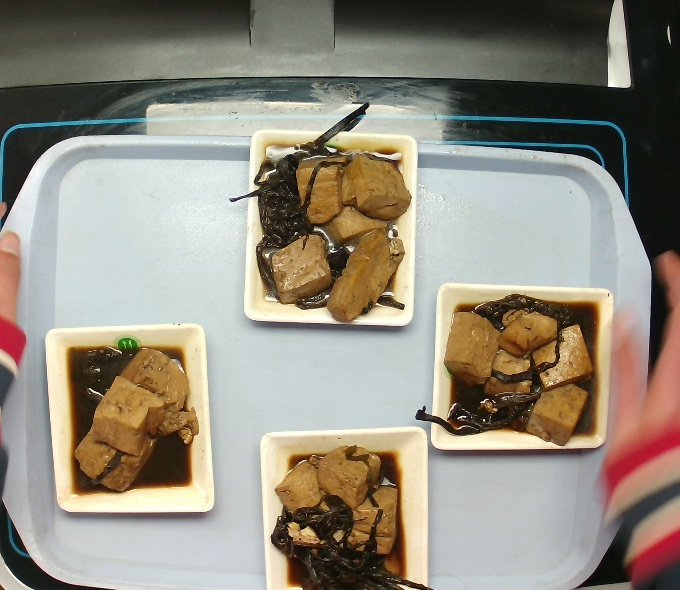wcq-CaiLuDouFu: (246, 125, 405, 323), (426, 286, 606, 453), (273, 428, 414, 589), (66, 336, 200, 501)
